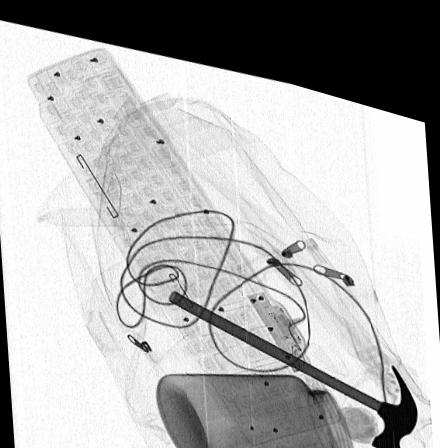Hammer: (168, 279, 418, 434)
